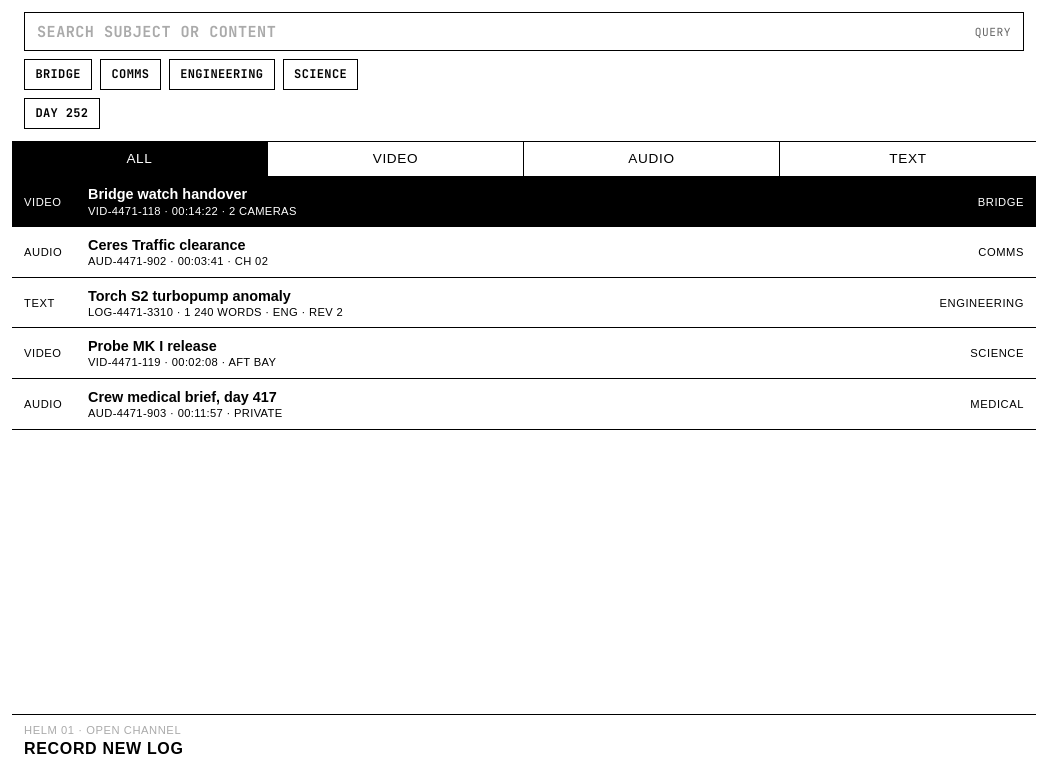
LogList › filters the list by type when a tab is clicked
Click the button "Audio". click: coordinates (652, 159)
box: left=524, top=142, right=780, bottom=177
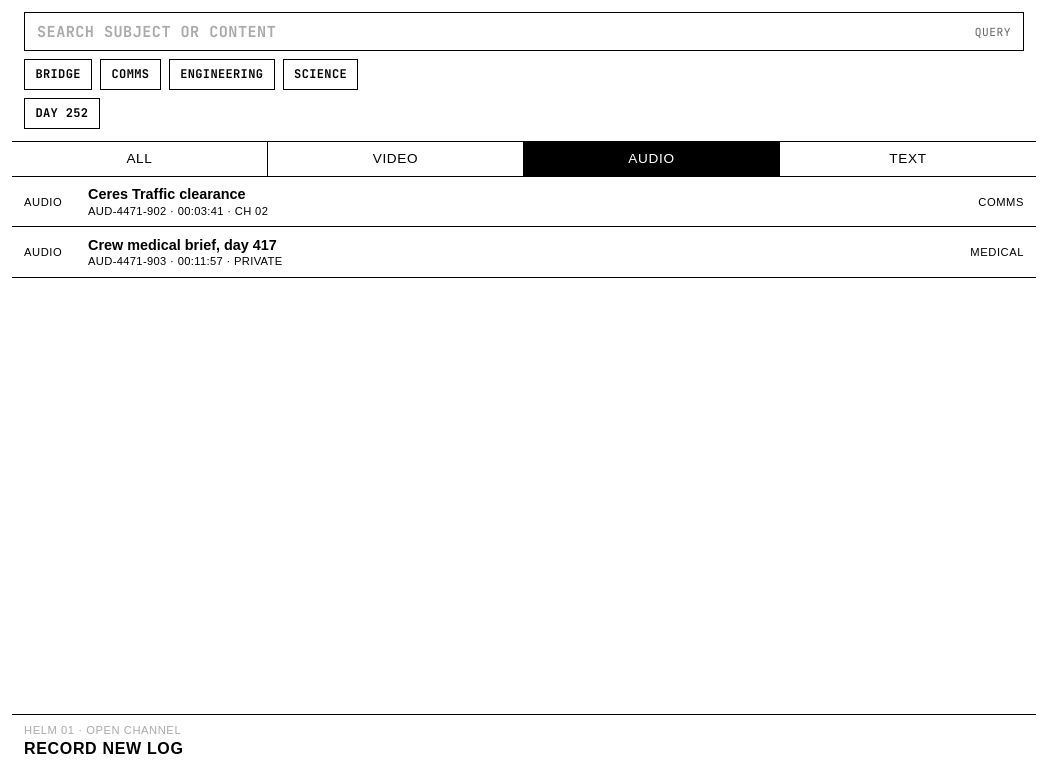
Expected: the text "Ceres Traffic clearance" is shown, left=88, top=186, right=246, bottom=202
Now the button "Bridge watch handover" is gone
